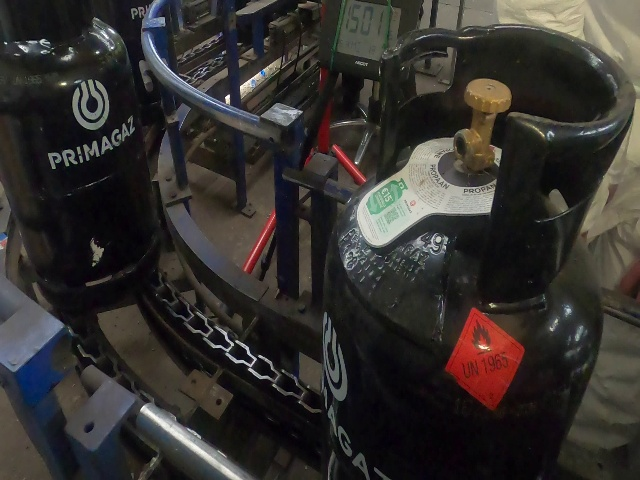gas_bottle: (0, 2, 632, 480)
